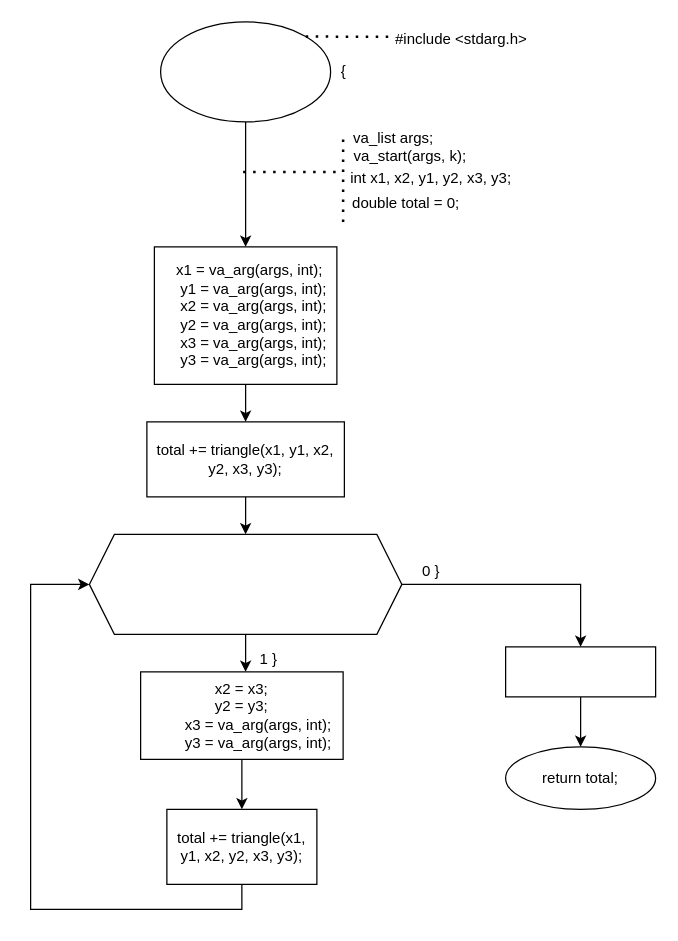
Some shapes in this 678 by 941 pixel diagram are drawn without their labels. The shapes that lost their labels are listed below. From the top down, each one's centre as x and y in pixels, then its label:
At pixel 245 71: "double squaren(int k, ...)".
At pixel 245 583: "for (int i = 0; i < k / 2 - 3; i++)".
At pixel 580 671: "va_end(args);".
